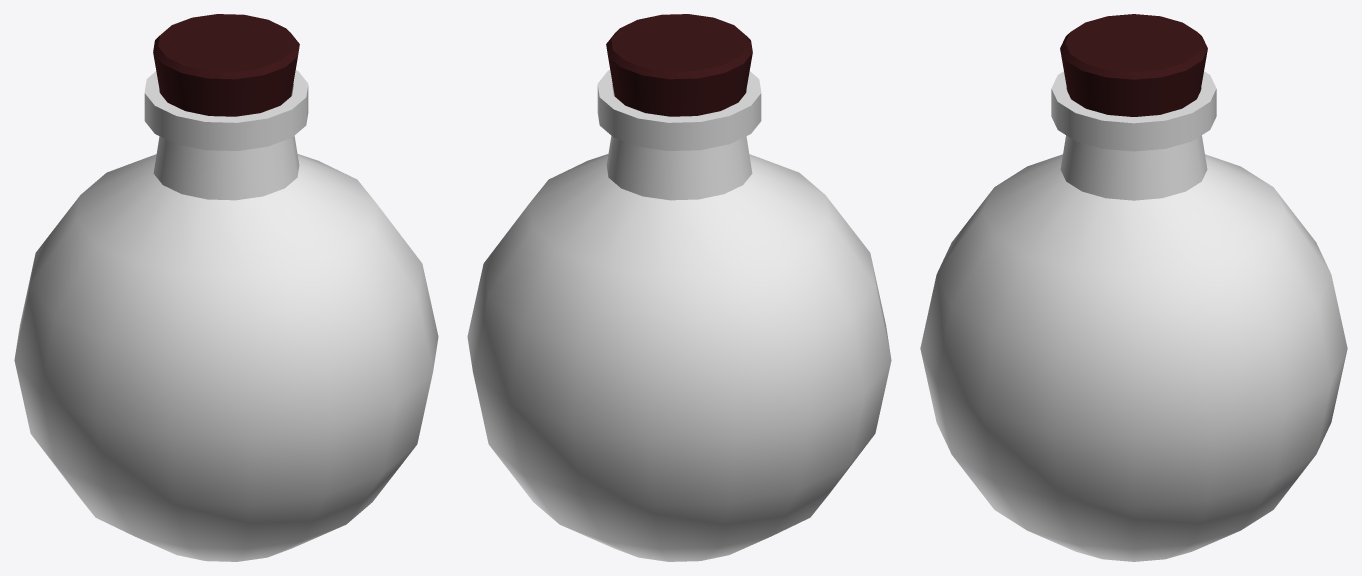
Rendered from sm_potion_bottle_1.glb.
3 renders of one model, left to right at view 1: azimuth 30°, elevation 25°; view 2: azimuth 150°, elevation 25°; view 3: azimuth 270°, elevation 25°, orthographic.
Visible parts, largest first — view 1: potion; view 2: potion; view 3: potion.
Part boxes in pixels (x1,y1,x2,y2): potion: [14, 14, 438, 561]; potion: [467, 14, 891, 561]; potion: [920, 14, 1347, 561].
Bounding box in the file's own units: 2 × 2.58 × 2.
